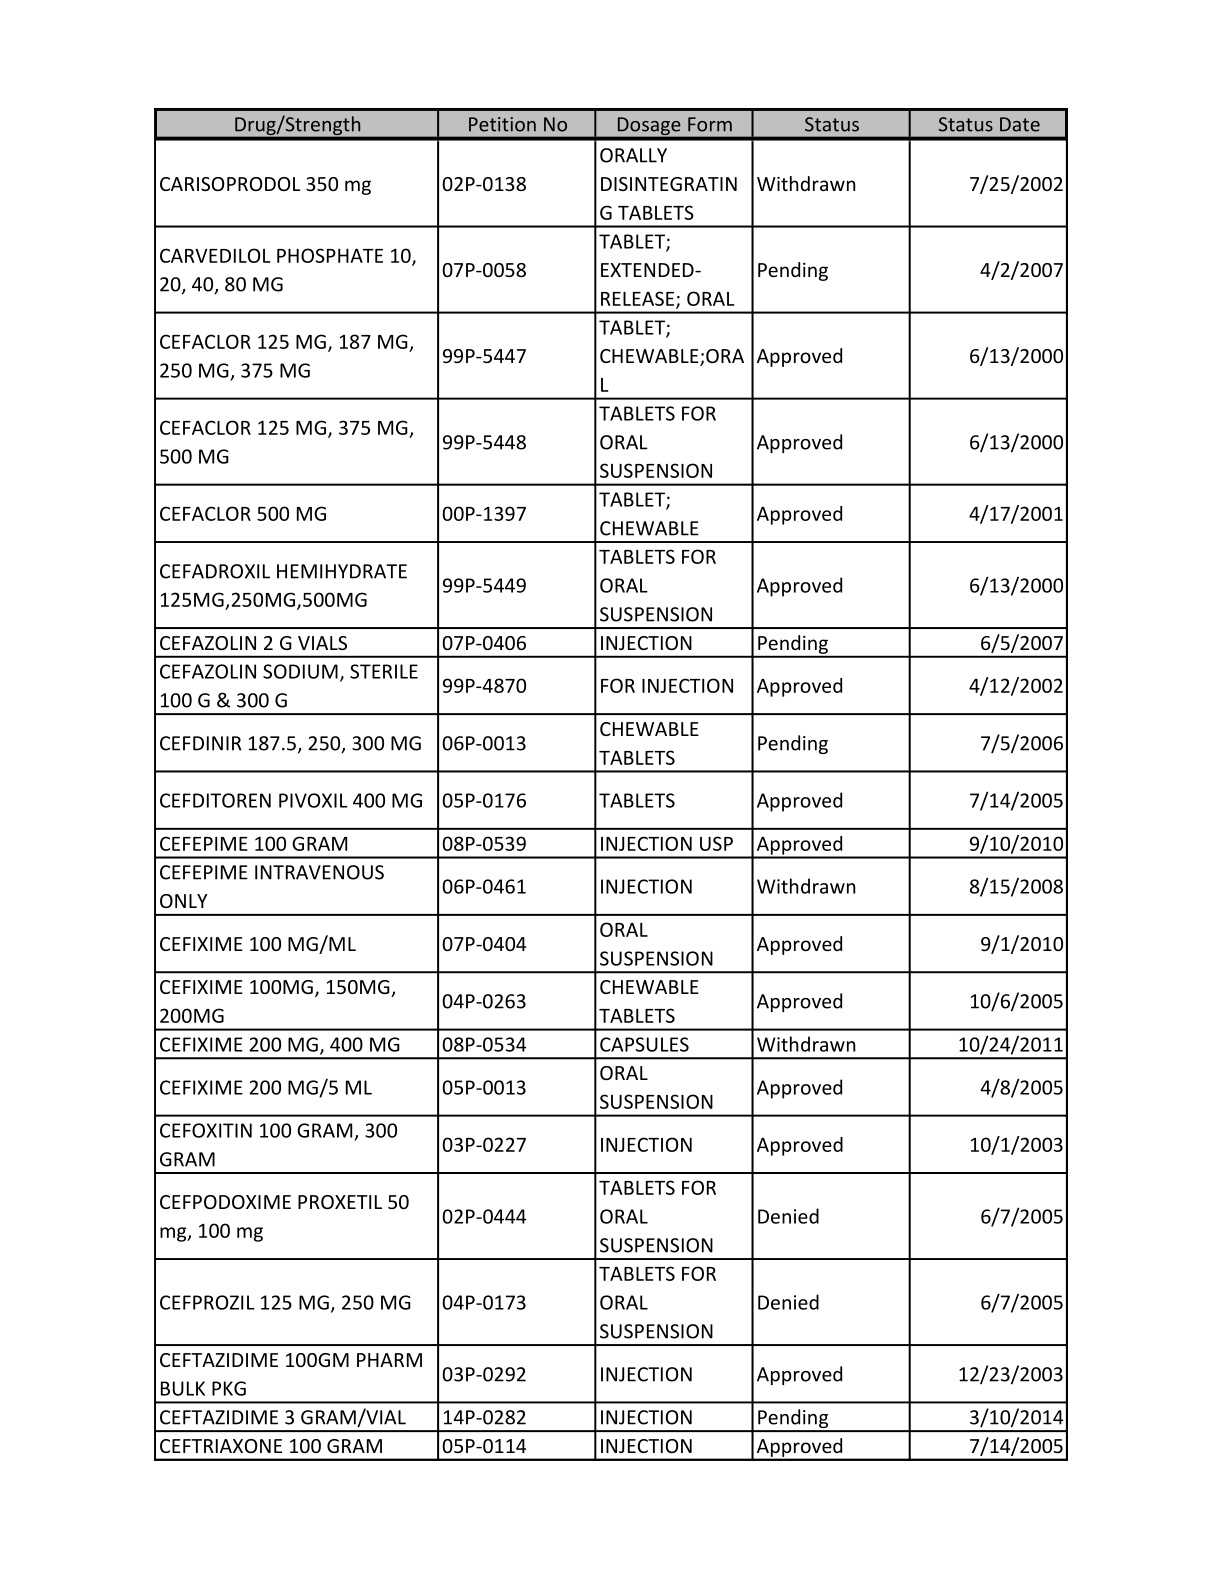full_lined: (153, 103, 1071, 1467)
